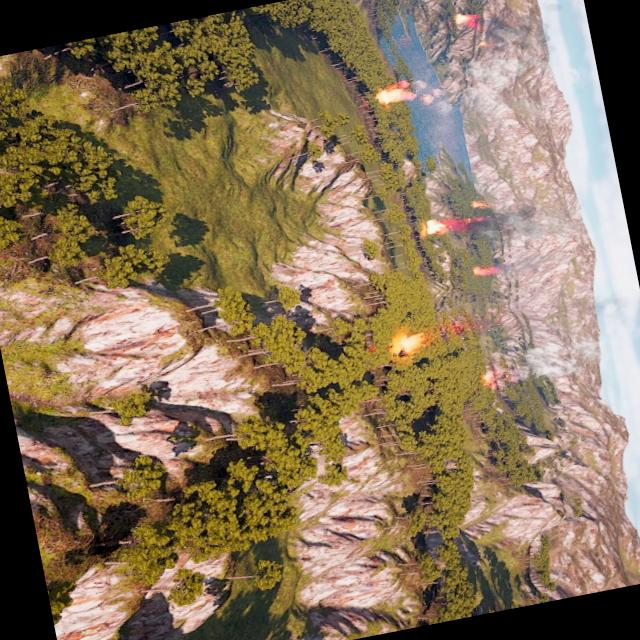fire: (377, 80, 416, 107), (394, 332, 424, 356), (420, 215, 449, 239), (470, 262, 496, 277), (452, 12, 470, 28), (469, 200, 482, 212), (476, 42, 489, 48)
smoke: (426, 290, 638, 400), (448, 196, 564, 259), (408, 72, 458, 125)
